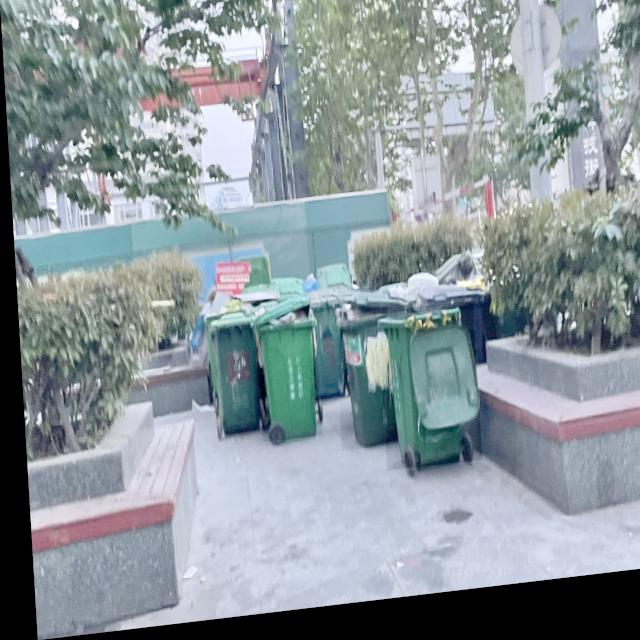garbage_bin: (374, 312, 476, 480), (204, 317, 255, 440), (306, 297, 339, 406)
overflow: (329, 293, 408, 459), (250, 300, 317, 448)
